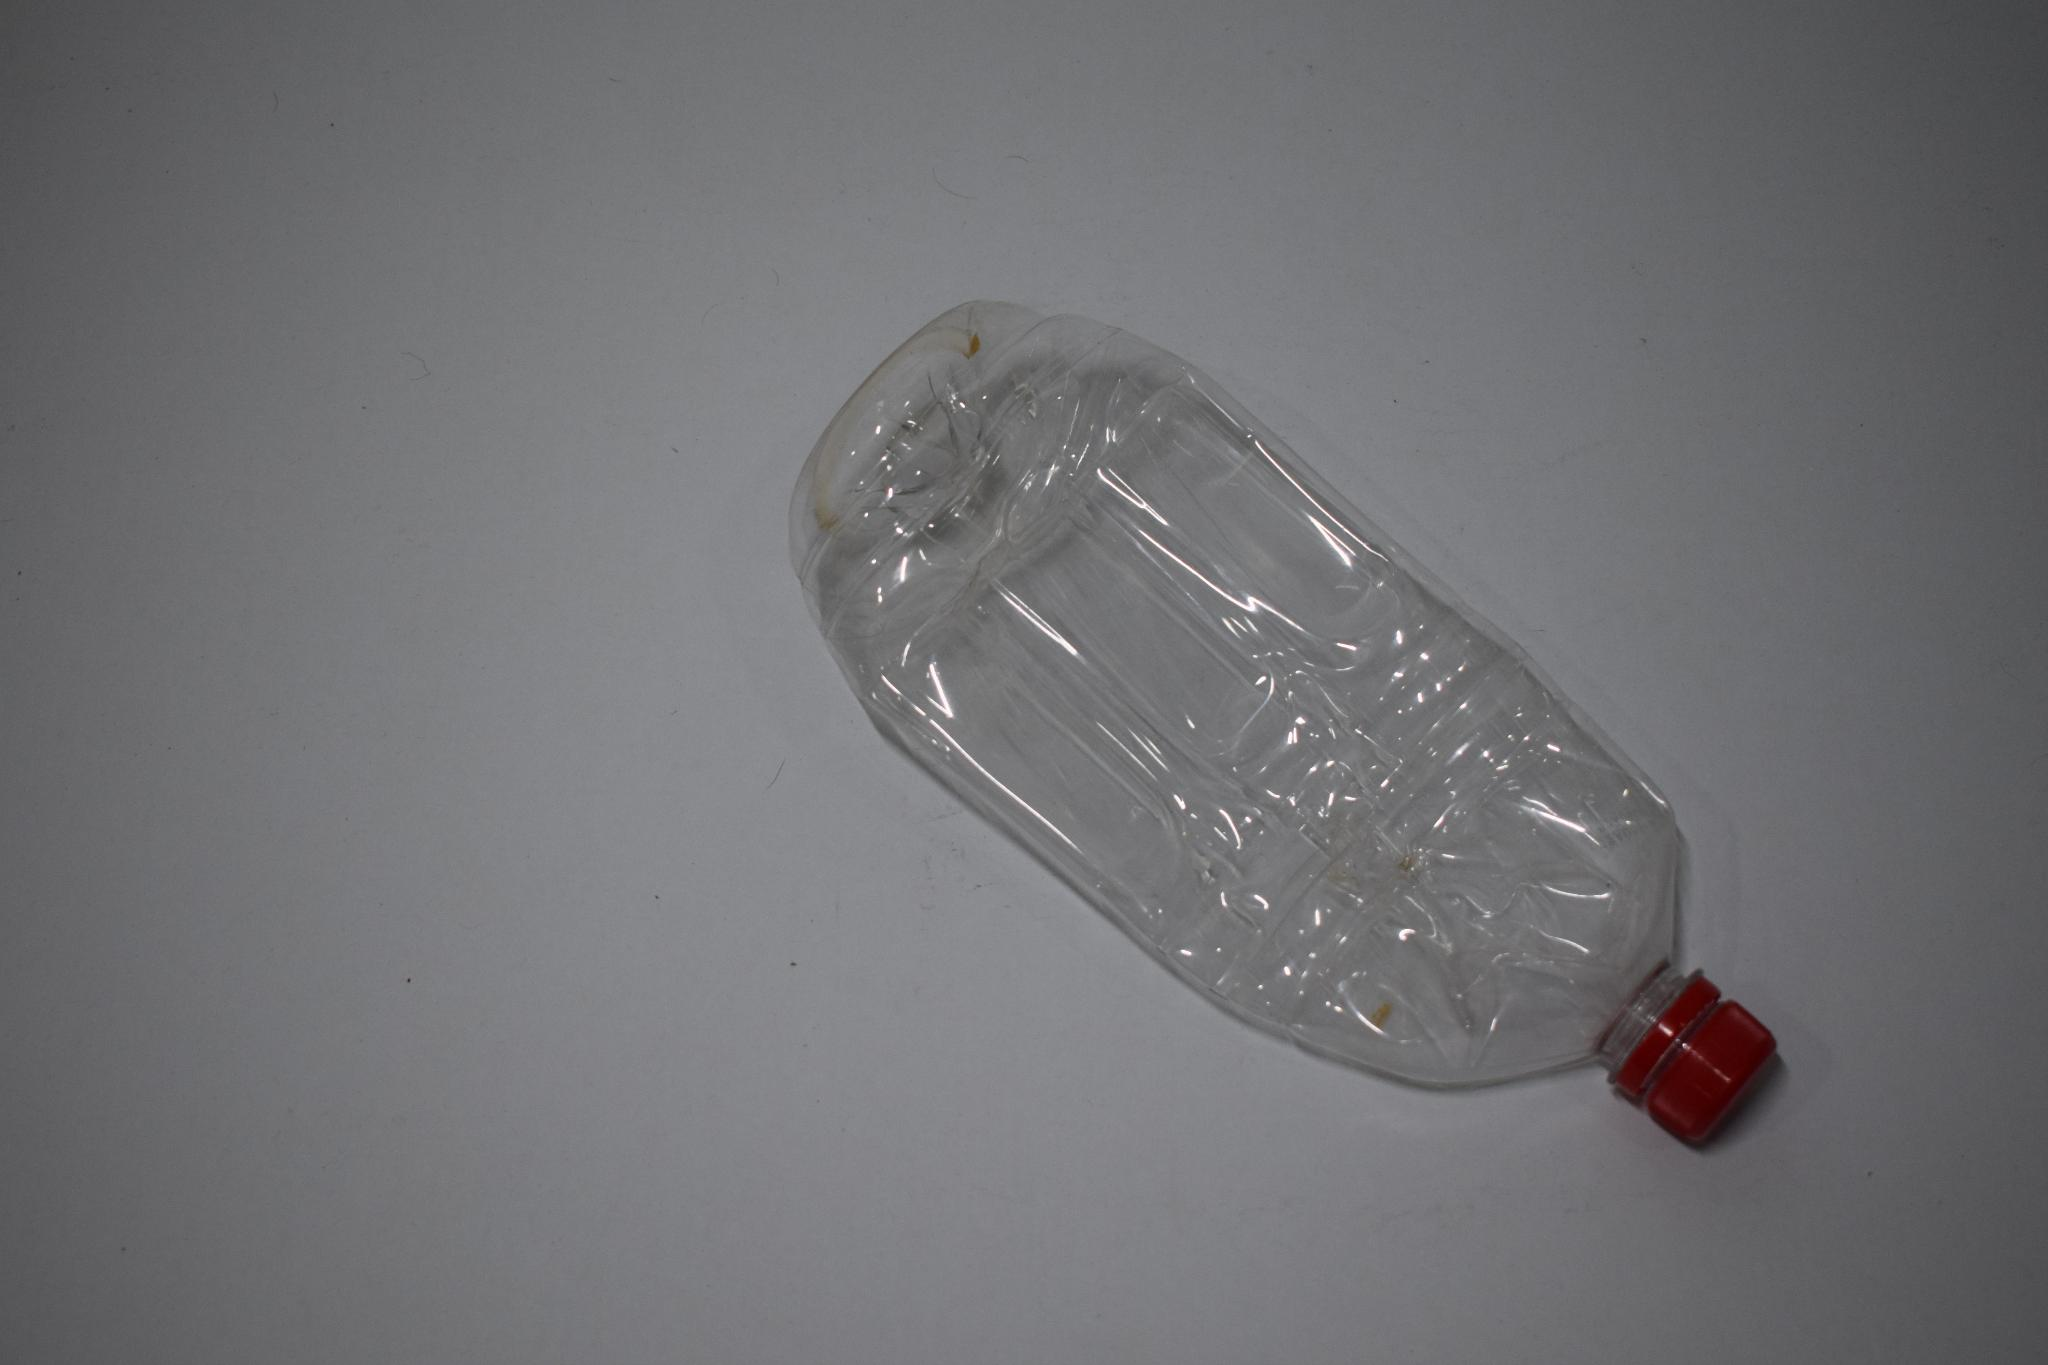bottle: (778, 299, 1836, 1165)
